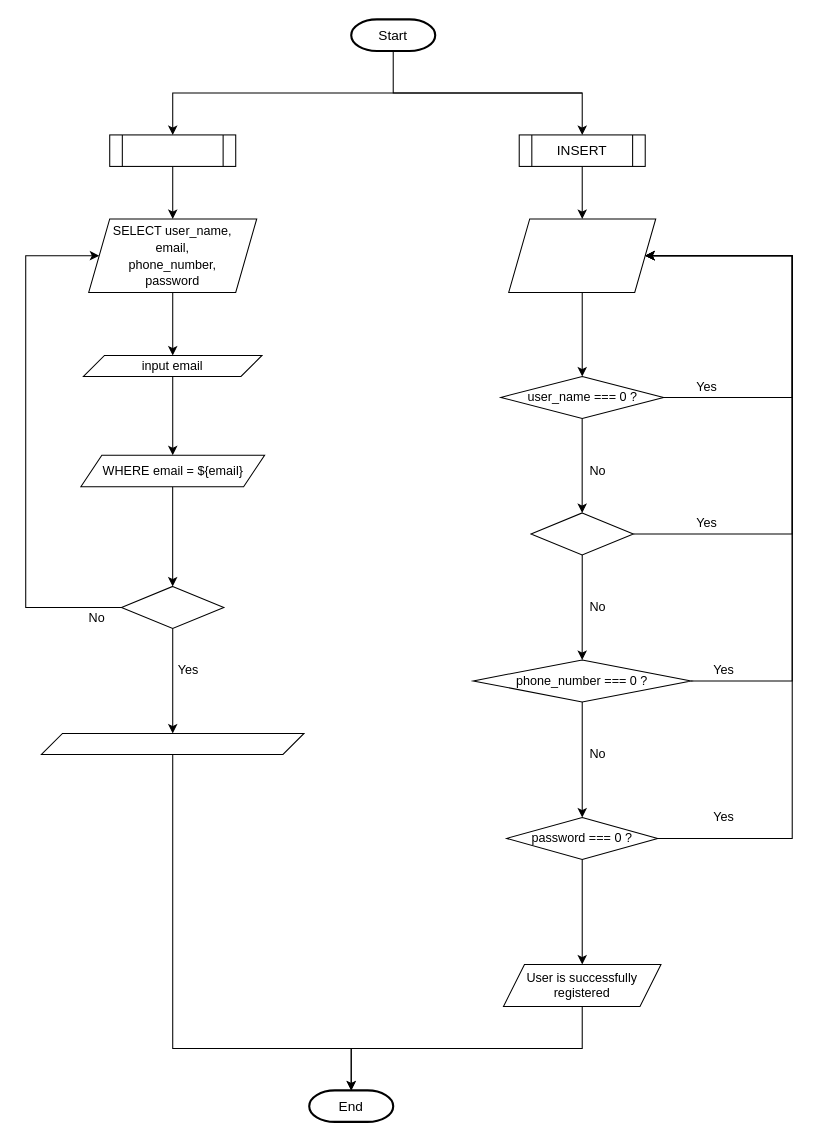
This 819x1140 diagram has some shape labels left out. Here are the shapes that lost their labels. From the top down, the centre of each, then its label:
the point at 172,150: READ
the point at 582,255: user_name email phone_number password
the point at 581,533: email === 0 ?
the point at 172,606: Is email exists
the point at 172,743: The user name and email can be shown
